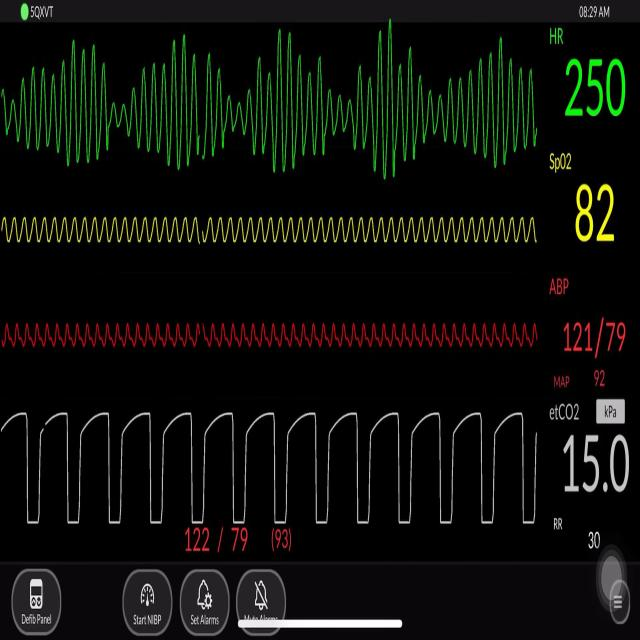danger: (10, 32, 539, 182)
